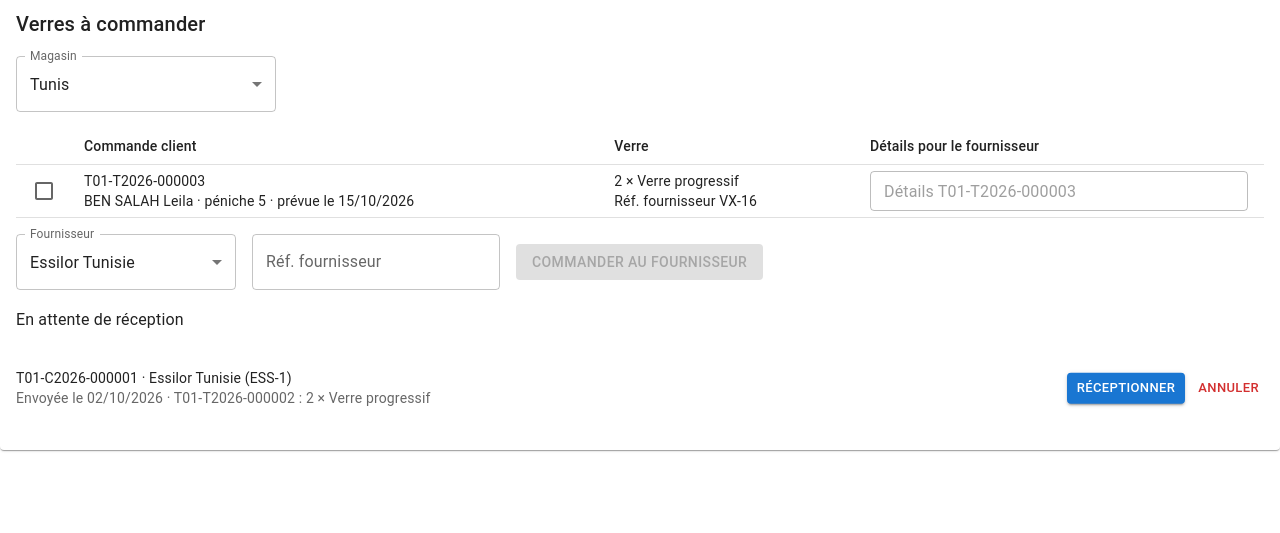
Test: commande au fournisseur les verres d'une commande client avec leurs détails
The width and height of the screenshot is (1280, 533).
Click the checkbox named "Commander T01-T2026-000003 Verre progressif": point(44, 191) [32, 179, 56, 203]
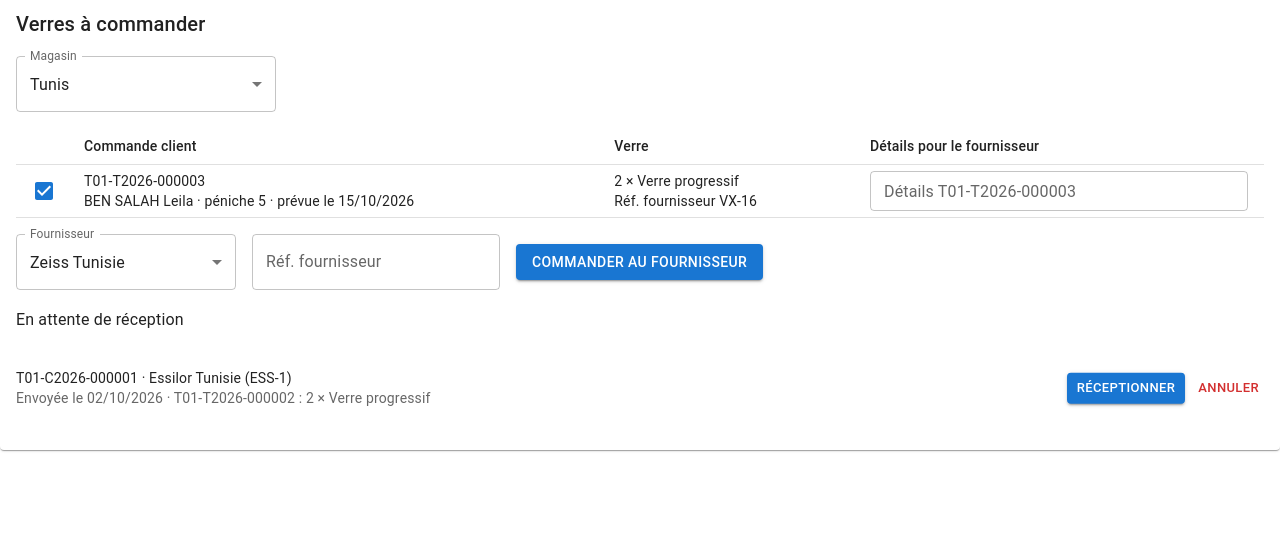
Expected: the text "BEN SALAH Leila · péniche 5 · prévue le 15/10/2026" is shown, [84, 193, 414, 209]
Expected: the text "Réf. fournisseur VX-16" is shown, [614, 193, 757, 209]
In the field labelled "Détails T01-T2026-000003": point(1059, 191) [870, 171, 1248, 211], type "OD -2.25 / OG -1.75"
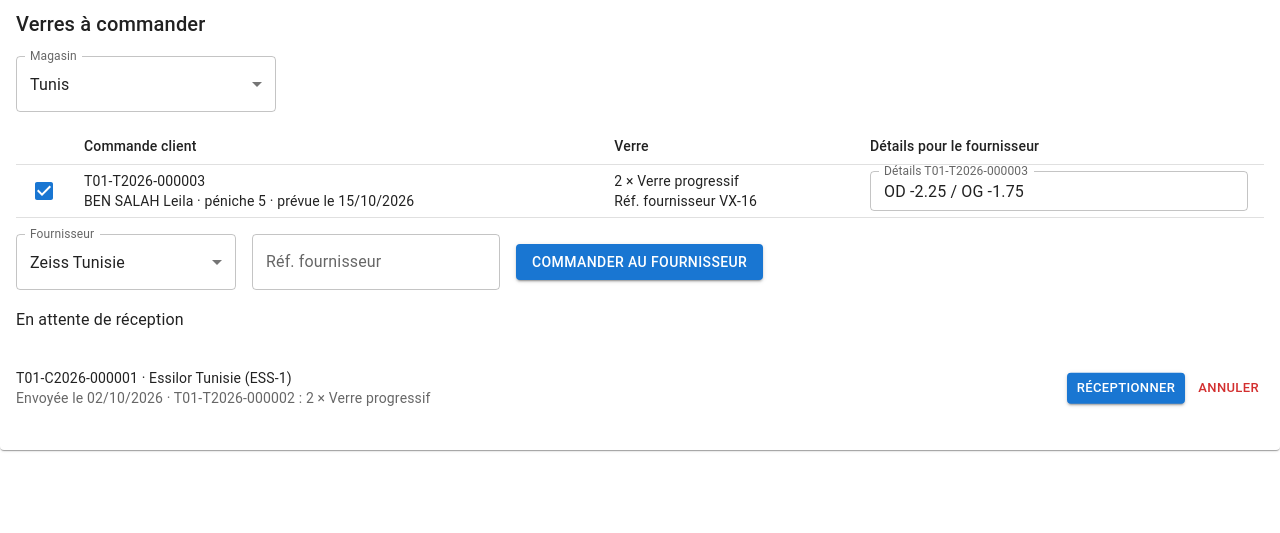
In the field labelled "Réf. fournisseur": point(376, 262) [252, 234, 500, 290], type "ESS-2"
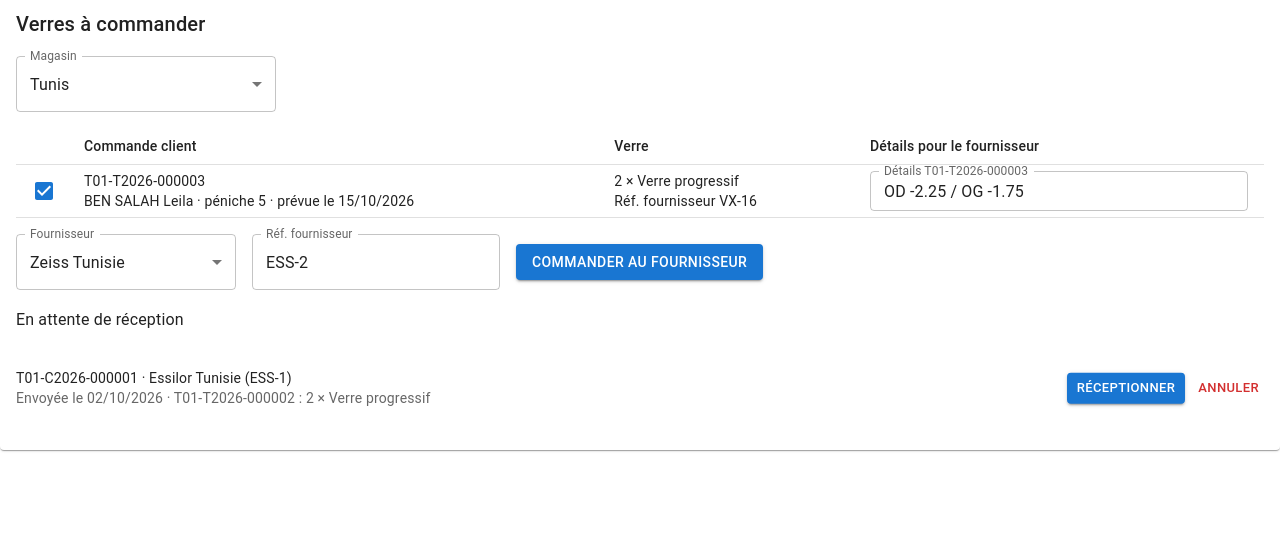
Click the button "Commander au fournisseur": point(640, 262) [516, 244, 763, 280]
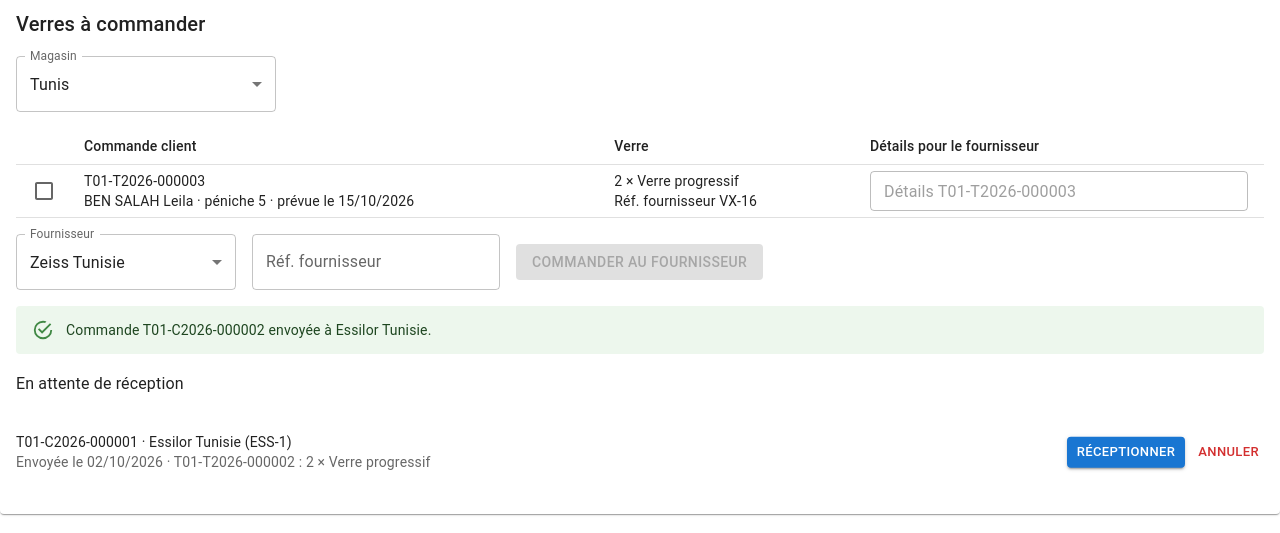
Now the text "Commande T01-C2026-000002 envoyée à Essilor Tunisie." is shown, box [66, 322, 432, 338]
